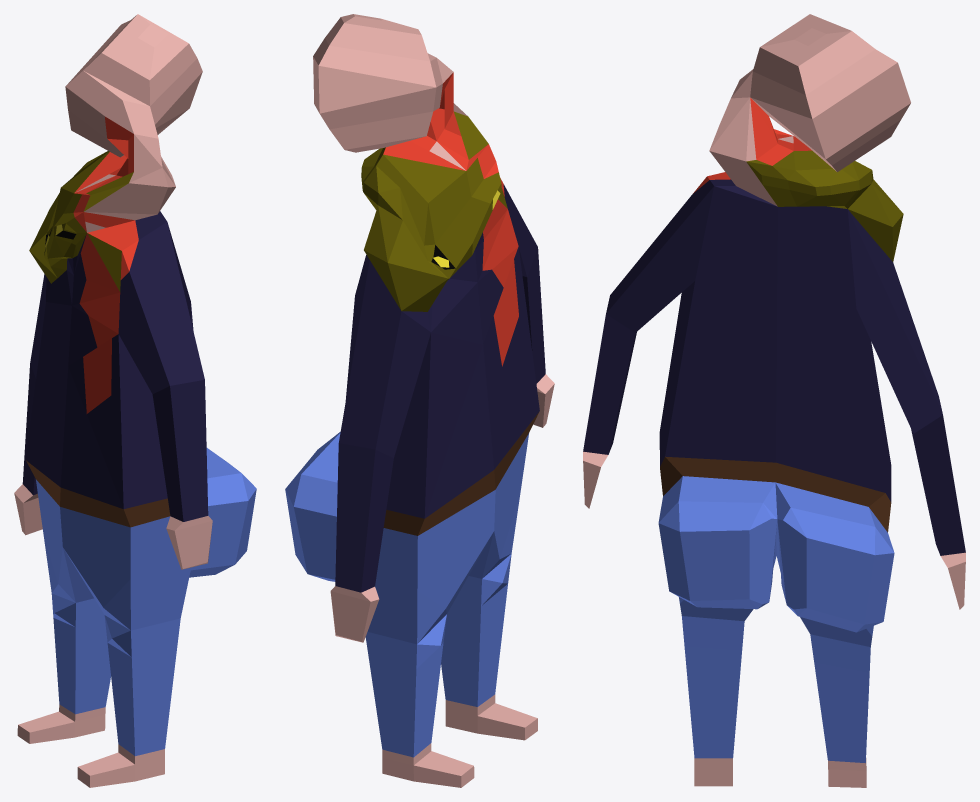
The model's file is Chelovek.fbx.
3 renders of one model, left to right at view 1: azimuth 30°, elevation 25°; view 2: azimuth 150°, elevation 25°; view 3: azimuth 270°, elevation 25°, orthographic. The views are drawn at different scales.
Visible parts, largest first — view 1: Cube; view 2: Cube; view 3: Cube.
Part boxes in pixels (left/top/right/bottom): Cube: left=14, top=14, right=256, bottom=787; Cube: left=285, top=14, right=554, bottom=787; Cube: left=583, top=14, right=965, bottom=787.
Size of the model in its own units: 115 by 469 by 208.
